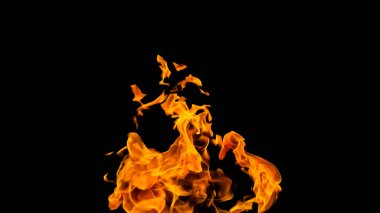fire: (101, 54, 284, 211)
